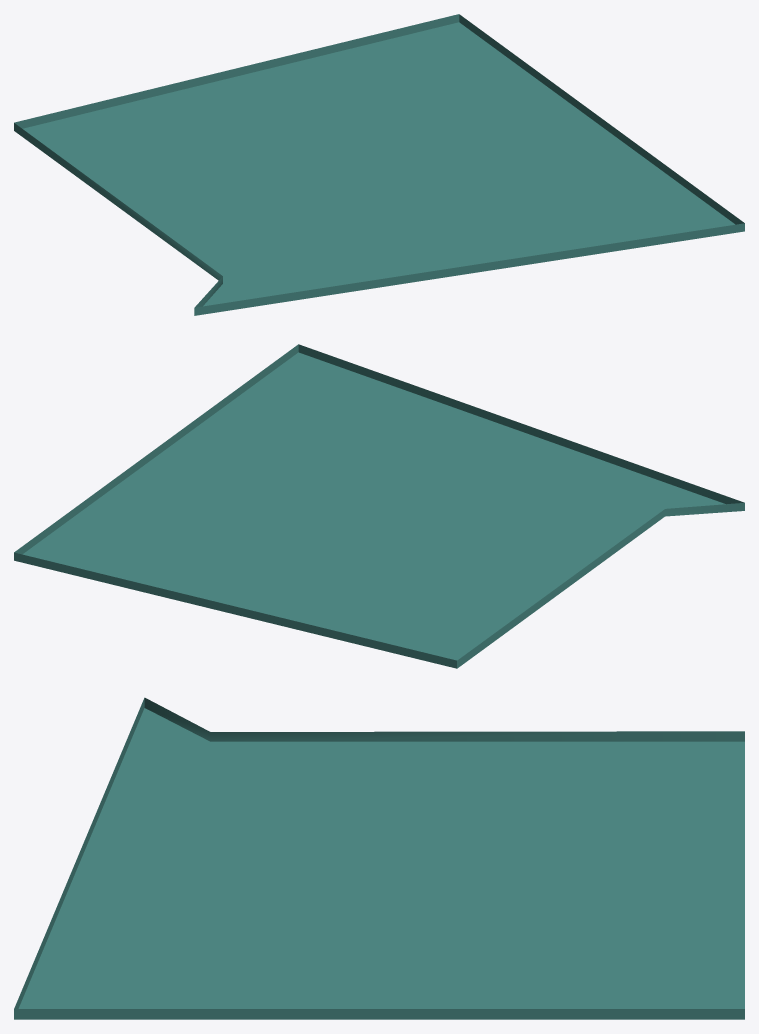
Rendered from port village underwater.fbx.
3 views of the same model, one above another, from view 1: azimuth 30°, elevation 25°; view 2: azimuth 150°, elevation 25°; view 3: azimuth 270°, elevation 25° (orthographic). The views are drawn at different scales.
Visible parts, largest first — view 1: underwater; view 2: underwater; view 3: underwater.
Boxes of the visible parts, bbox=[...] form: underwater: bbox=[14, 14, 744, 315]; underwater: bbox=[14, 344, 744, 668]; underwater: bbox=[14, 697, 744, 1019].
Size of the model in its own units: 100908 by 1584 by 100000.
